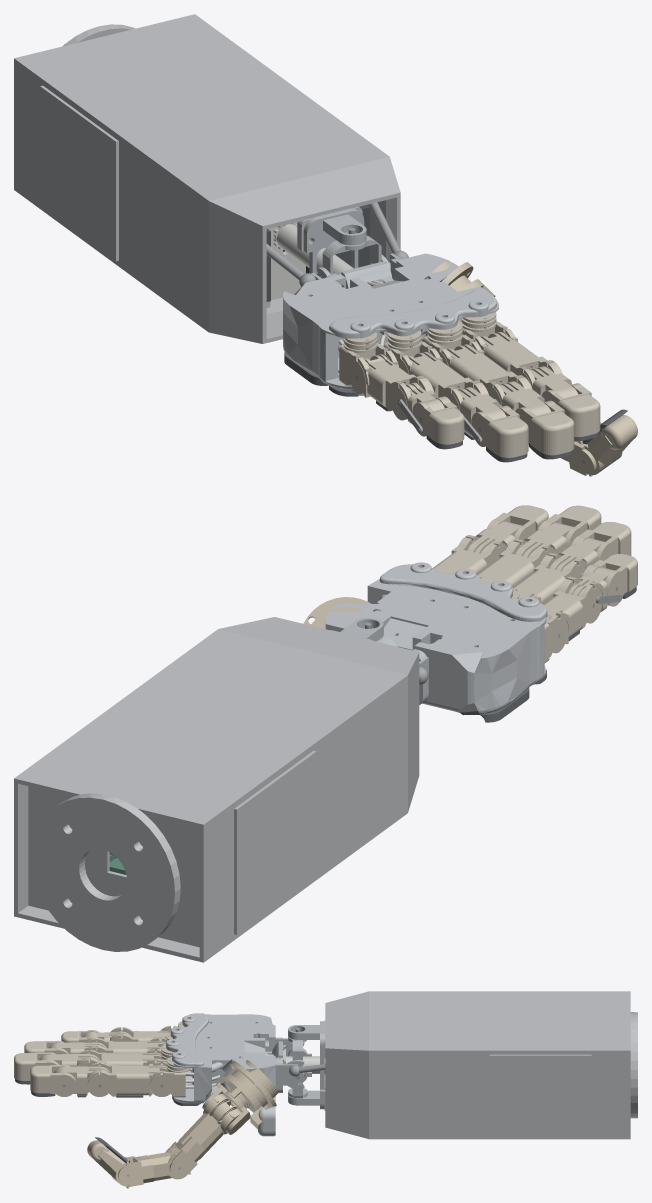
The model's file is tendra_v2_open.glb.
3 views of the same model, one above another, from view 1: azimuth 30°, elevation 25°; view 2: azimuth 150°, elevation 25°; view 3: azimuth 270°, elevation 25° (orthographic). The views are drawn at different scales.
Visible parts, largest first — view 1: F_forearm_shell_back, F_forearm_cover_front, P_shell, F_side_cover_L, P_back_plate, W_wrist_base, little_proximal, middle_distal, ring_distal, middle_proximal, index_proximal, ring_proximal (+18 smaller); view 2: F_forearm_shell_back, F_arm_flange, P_shell, F_forearm_cover_front, F_side_cover_L, F_forearm_frame, P_back_plate, little_proximal, middle_proximal, ring_proximal, little_distal, ring_distal (+10 smaller); view 3: F_forearm_shell_back, F_forearm_cover_front, F_side_cover_R, P_shell, T_thumb_metacarpal, index_proximal, P_back_plate, T_thumb_mount, T_thumb_proximal, W_wrist_base, index_distal, F_arm_flange (+15 smaller).
Boxes of the visible parts, x1,y1,x2,y2 form: F_forearm_shell_back: [14, 14, 400, 284]; F_forearm_cover_front: [14, 124, 392, 343]; P_shell: [283, 253, 498, 395]; F_side_cover_L: [40, 85, 118, 261]; P_back_plate: [303, 279, 427, 320]; W_wrist_base: [303, 208, 366, 273]; little_proximal: [358, 350, 424, 420]; middle_distal: [515, 400, 574, 455]; ring_distal: [471, 405, 528, 457]; middle_proximal: [441, 341, 523, 405]; index_proximal: [475, 329, 554, 385]; ring_proximal: [402, 348, 480, 410]; F_forearm_shell_back: [14, 617, 419, 893]; F_arm_flange: [14, 778, 205, 962]; P_shell: [325, 562, 547, 714]; F_forearm_cover_front: [18, 714, 419, 961]; F_side_cover_L: [234, 750, 316, 934]; F_forearm_frame: [28, 786, 199, 947]; P_back_plate: [390, 597, 519, 649]; little_proximal: [543, 578, 602, 644]; middle_proximal: [477, 541, 552, 587]; ring_proximal: [513, 555, 585, 604]; little_distal: [582, 554, 637, 606]; ring_distal: [571, 522, 631, 560]; F_forearm_shell_back: [325, 991, 630, 1094]; F_forearm_cover_front: [325, 1088, 630, 1139]; F_side_cover_R: [489, 1054, 591, 1135]; P_shell: [166, 1013, 275, 1136]; T_thumb_metacarpal: [166, 1093, 241, 1177]; index_proximal: [87, 1061, 169, 1096]; P_back_plate: [204, 1018, 262, 1052]; T_thumb_mount: [222, 1060, 278, 1129]; T_thumb_proximal: [118, 1147, 190, 1186]; W_wrist_base: [288, 1021, 324, 1109]; index_distal: [30, 1064, 76, 1096]; F_arm_flange: [627, 993, 637, 1139].
Size of the model in its own units: 124 by 98.37 by 422.
